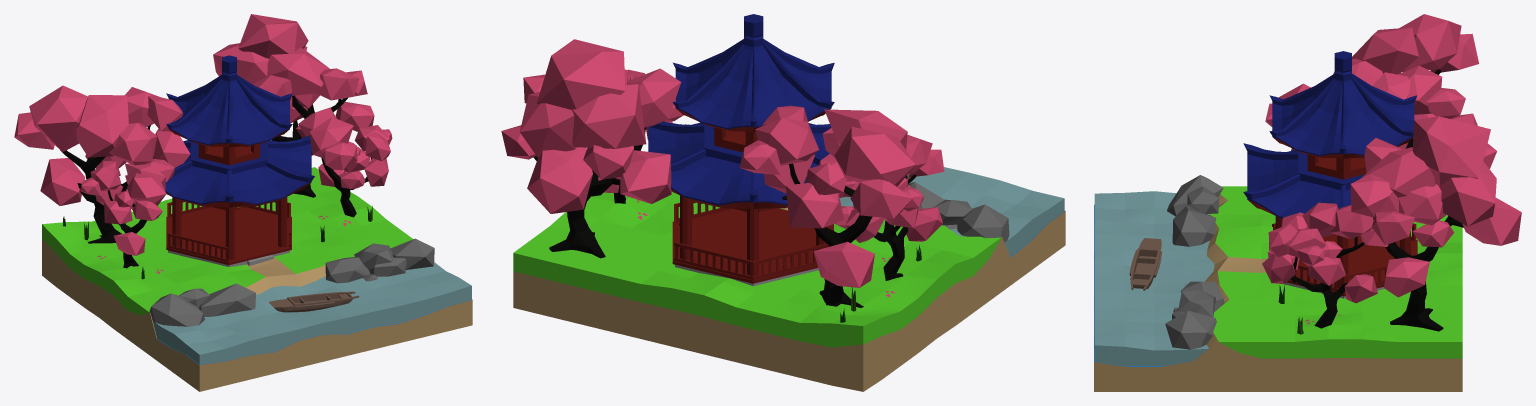
File: Spring.fbx
3 renders of one model, left to right at view 1: azimuth 30°, elevation 25°; view 2: azimuth 150°, elevation 25°; view 3: azimuth 270°, elevation 25°, orthographic. The views are drawn at different scales.
Visible parts, largest first — view 1: Spring=base=, Tree01, Tree00, Roof1F, Base2F, Tree02, Base1F, Tree03, Rock00, Rock01, Boat, Fence; view 2: Spring=base=, Tree00, Tree01, Base2F, Roof1F, Base1F, Tree03, Rock01, Fence, Tree02; view 3: Spring=base=, Tree00, Base2F, Tree01, Tree02, Roof1F, Rock01, Rock00, Base1F, Boat, Fence.
Part boxes in pixels (x1=…): Spring=base=: x1=42, y1=167, x2=472, y2=391; Tree01: x1=14, y1=85, x2=190, y2=243; Tree00: x1=213, y1=14, x2=374, y2=197; Roof1F: x1=165, y1=135, x2=314, y2=260; Base2F: x1=166, y1=55, x2=292, y2=165; Tree02: x1=296, y1=107, x2=392, y2=217; Base1F: x1=166, y1=206, x2=291, y2=267; Tree03: x1=80, y1=160, x2=166, y2=268; Rock00: x1=325, y1=238, x2=434, y2=283; Rock01: x1=149, y1=283, x2=255, y2=326; Boat: x1=269, y1=291, x2=359, y2=312; Fence: x1=167, y1=201, x2=290, y2=259; Spring=base=: x1=513, y1=167, x2=1065, y2=391; Tree00: x1=501, y1=39, x2=681, y2=258; Tree01: x1=739, y1=105, x2=915, y2=307; Base2F: x1=672, y1=14, x2=834, y2=152; Roof1F: x1=648, y1=121, x2=831, y2=276; Base1F: x1=672, y1=208, x2=833, y2=286; Tree03: x1=835, y1=134, x2=944, y2=280; Rock01: x1=908, y1=182, x2=1009, y2=242; Fence: x1=674, y1=201, x2=832, y2=276; Tree02: x1=598, y1=69, x2=683, y2=203; Spring=base=: x1=1094, y1=186, x2=1462, y2=391; Tree00: x1=1350, y1=116, x2=1521, y2=331; Base2F: x1=1269, y1=51, x2=1416, y2=179; Tree01: x1=1333, y1=14, x2=1479, y2=149; Tree02: x1=1262, y1=202, x2=1388, y2=328; Roof1F: x1=1243, y1=143, x2=1410, y2=288; Rock01: x1=1167, y1=175, x2=1223, y2=246; Rock00: x1=1165, y1=281, x2=1223, y2=349; Base1F: x1=1268, y1=234, x2=1417, y2=298; Boat: x1=1129, y1=238, x2=1162, y2=290; Fence: x1=1272, y1=223, x2=1416, y2=288.
Size of the model in its own units: 123 by 77.51 by 116.
